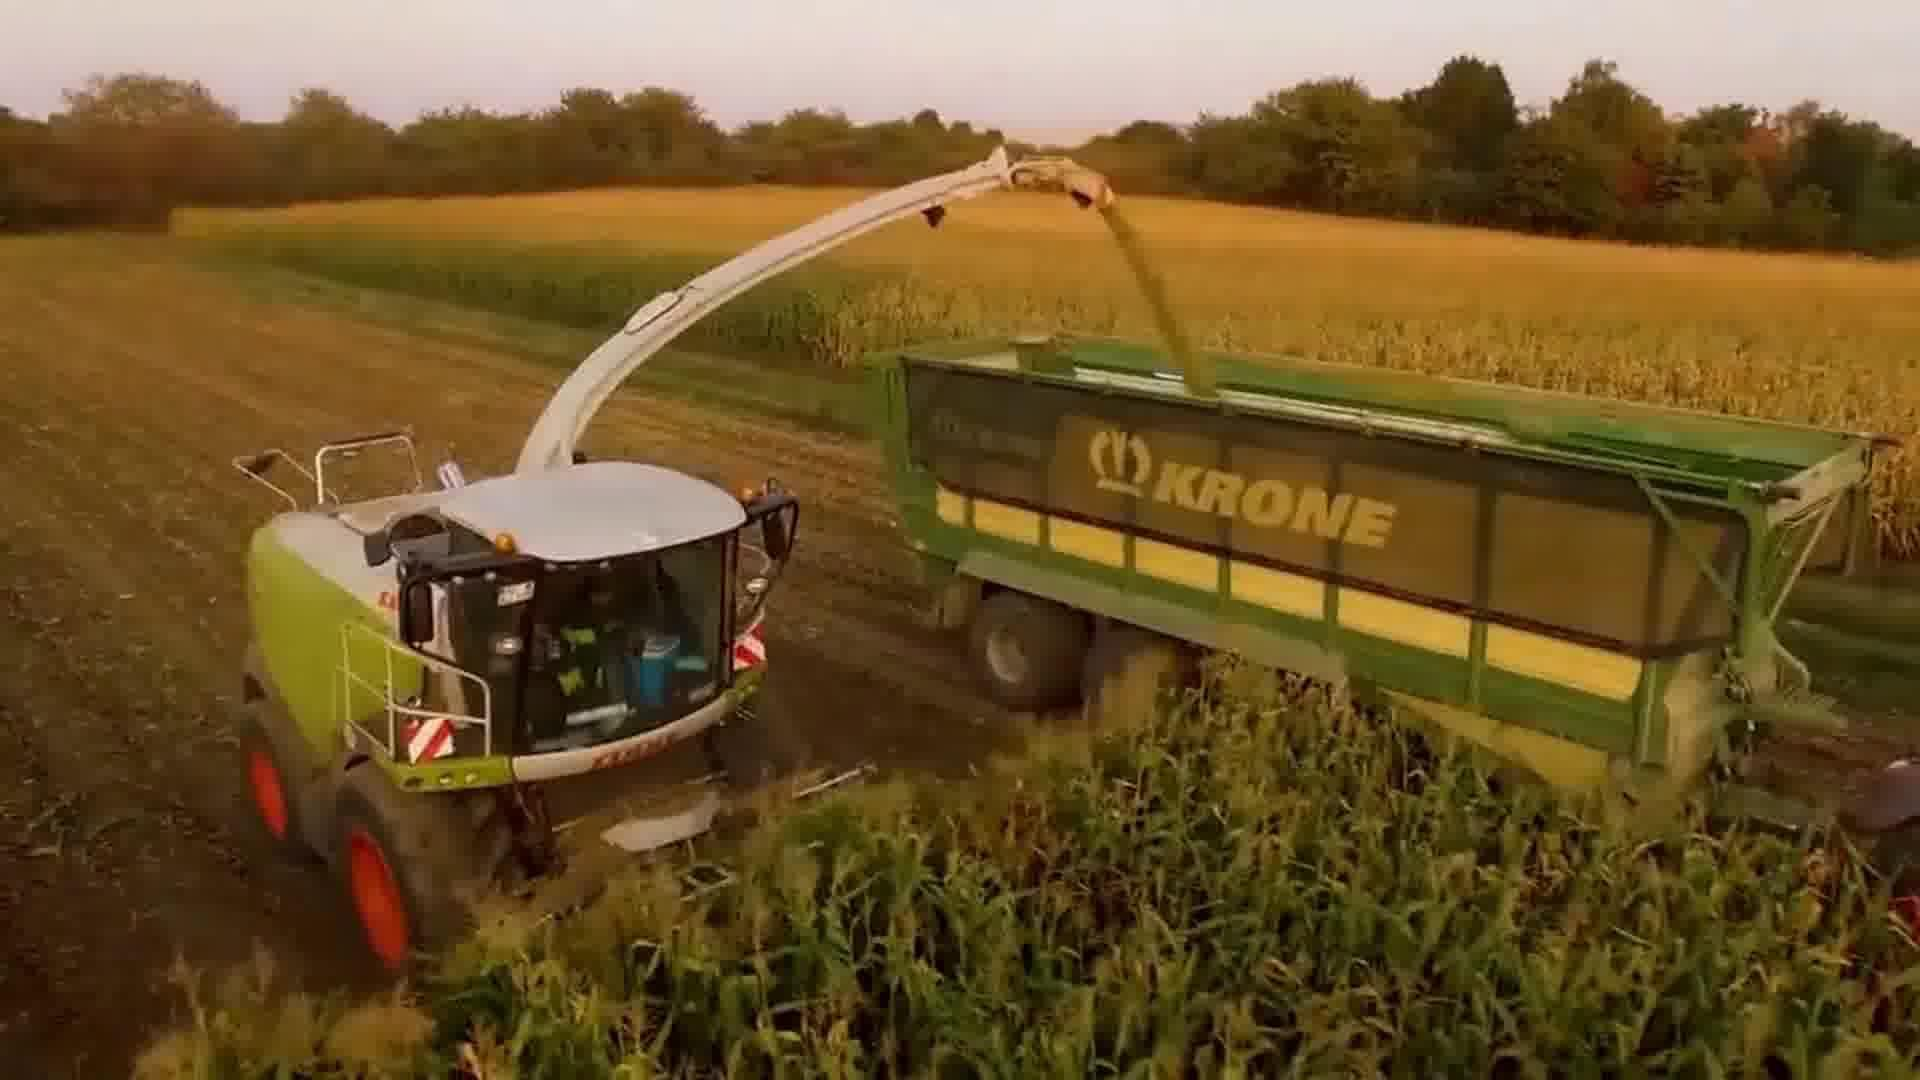combine harvester: (193, 137, 1124, 991)
trailer: (831, 294, 1920, 861)
